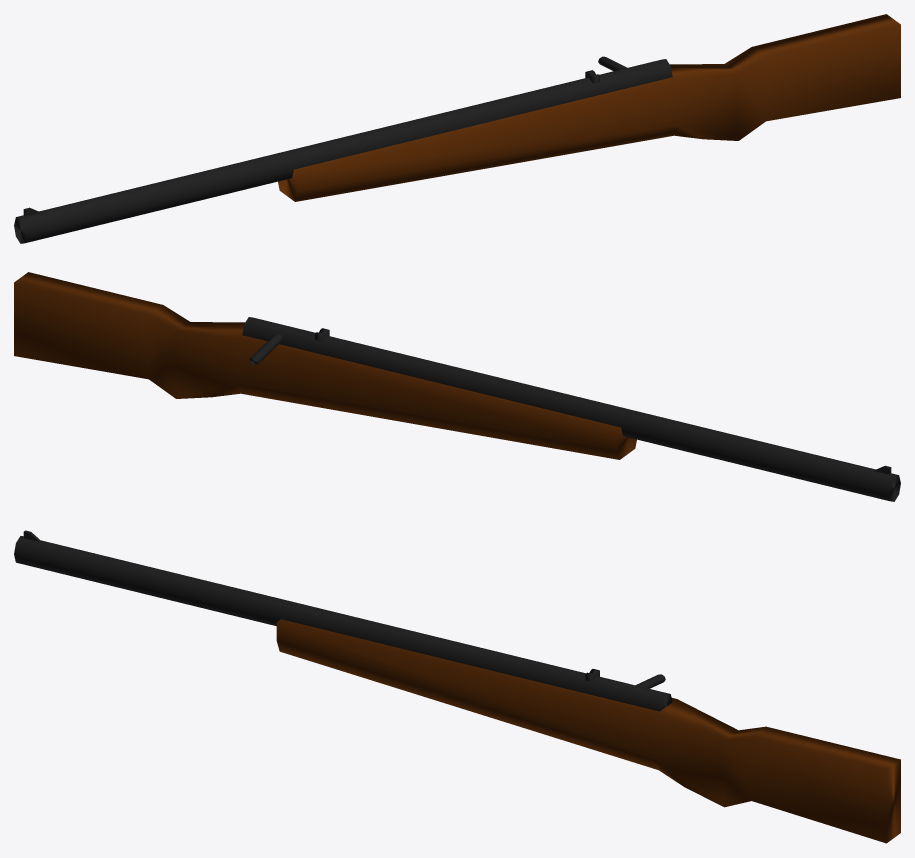
The model's file is hunting rifle.glb.
The picture shows the model from 3 angles, top to bottom: view 1: azimuth 30°, elevation 25°; view 2: azimuth 150°, elevation 25°; view 3: azimuth 330°, elevation 25°; orthographic projection.
Visible parts, largest first — view 1: Cube.002, Cylinder; view 2: Cube.002, Cylinder; view 3: Cube.002, Cylinder.
Boxes of the visible parts, bbox=[...] form: Cube.002: bbox=[278, 14, 900, 201]; Cylinder: bbox=[14, 59, 672, 243]; Cube.002: bbox=[14, 272, 636, 459]; Cylinder: bbox=[242, 317, 900, 501]; Cube.002: bbox=[276, 619, 900, 843]; Cylinder: bbox=[14, 536, 672, 711].
Size of the model in its own units: 4.66 by 0.5022 by 0.3719.
